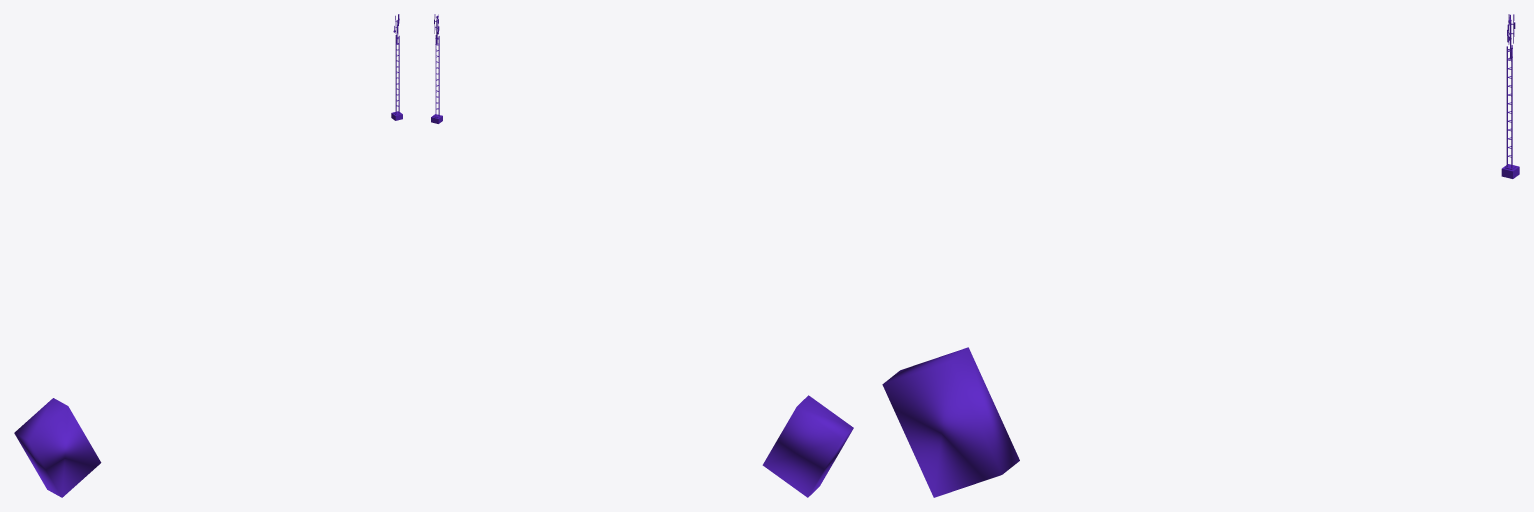
File: SatelliteTower.glb
3 views of the same model, side by side, from view 1: azimuth 30°, elevation 25°; view 2: azimuth 150°, elevation 25°; view 3: azimuth 330°, elevation 25° (orthographic). The views are drawn at different scales.
Parts seen in each view (by area): view 1: Cube.002_0; view 2: Cube.002_0; view 3: Cube.002_0.
Boxes of the visible parts, left/top/right/bottom form: Cube.002_0: left=14, top=14, right=402, bottom=497; Cube.002_0: left=431, top=14, right=853, bottom=497; Cube.002_0: left=882, top=14, right=1519, bottom=497.
Size of the model in its own units: 1456 by 1369 by 129.
